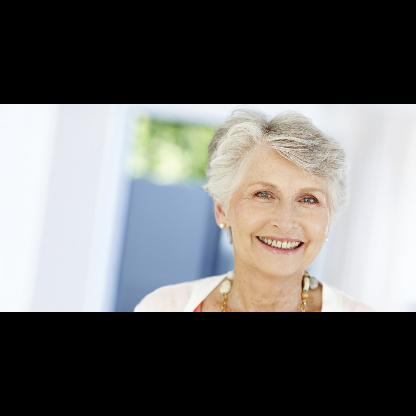Female: (213, 142, 331, 274)
